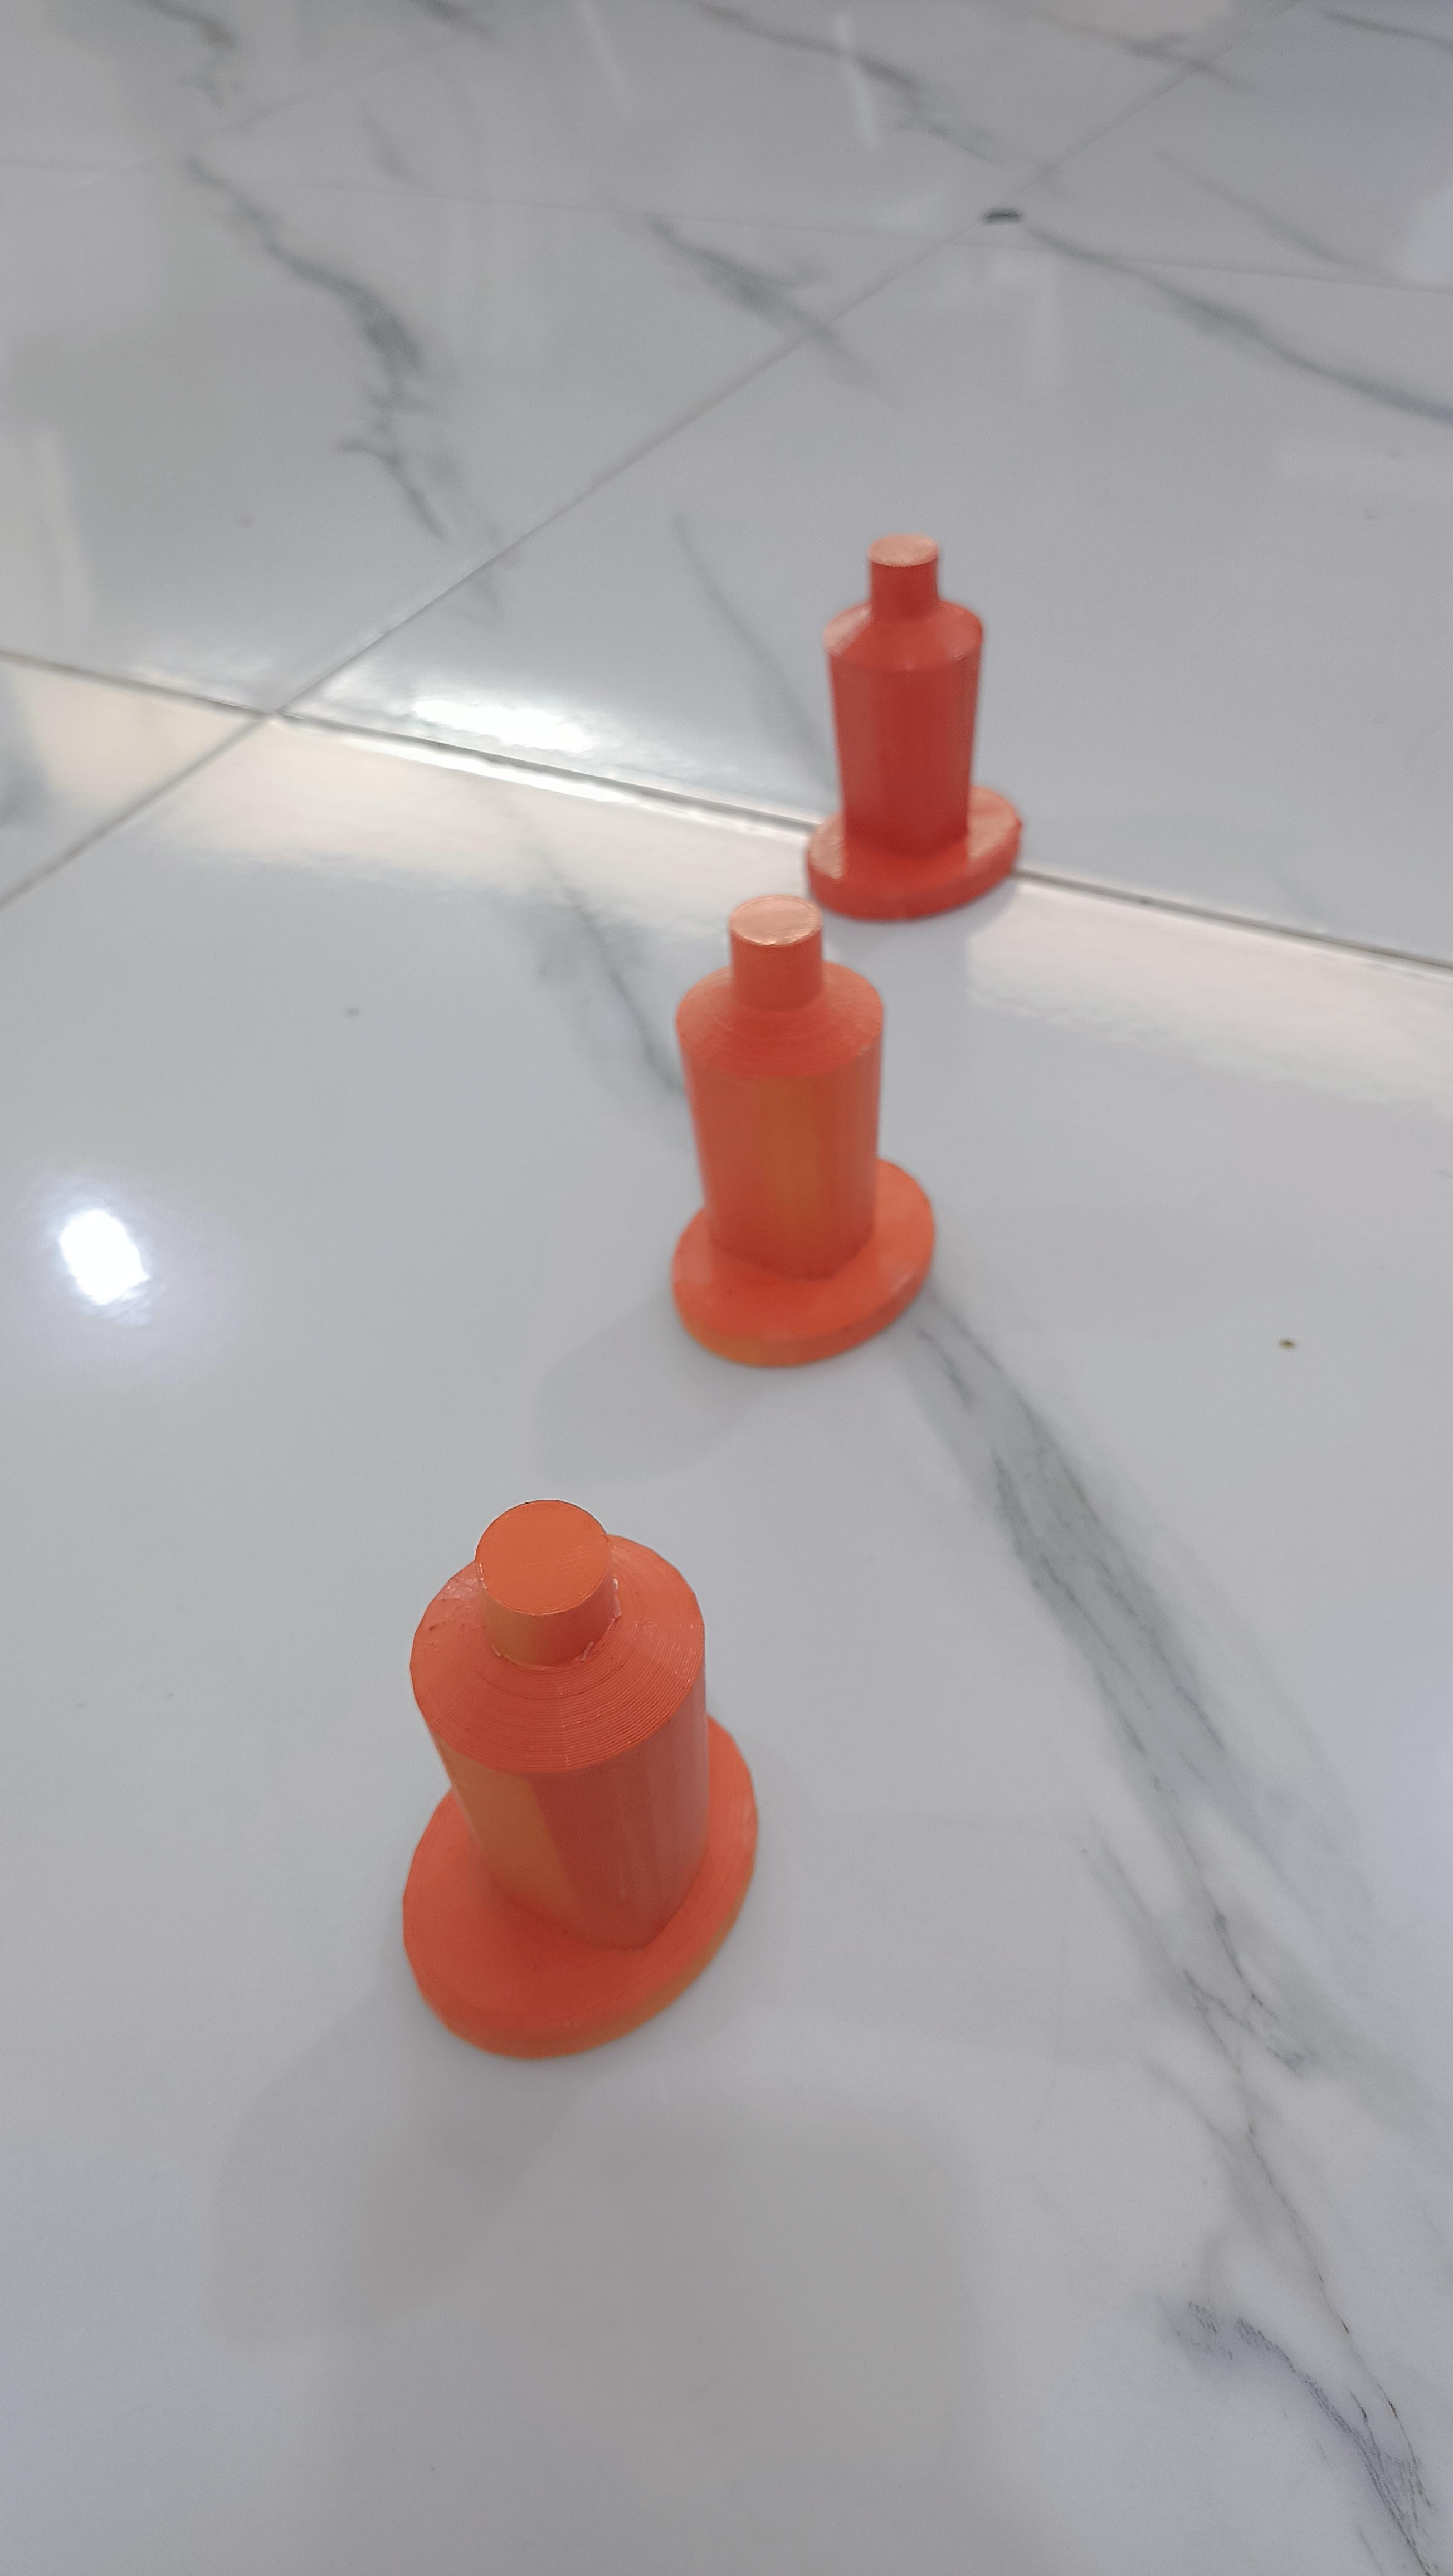dummy: (347, 1479, 796, 2119), (604, 875, 952, 1414), (788, 487, 1061, 919)
